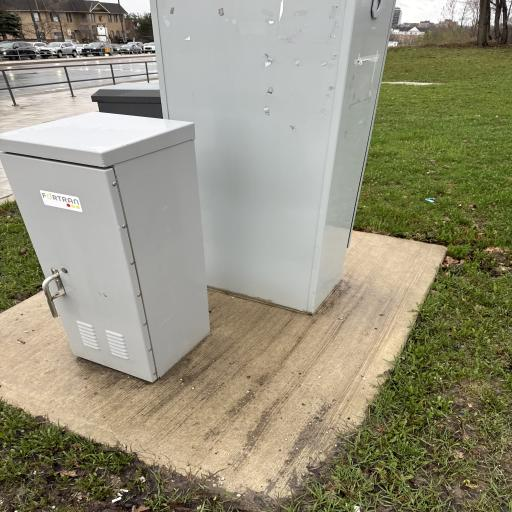Electrical Box: (148, 0, 398, 310), (0, 112, 214, 382)
